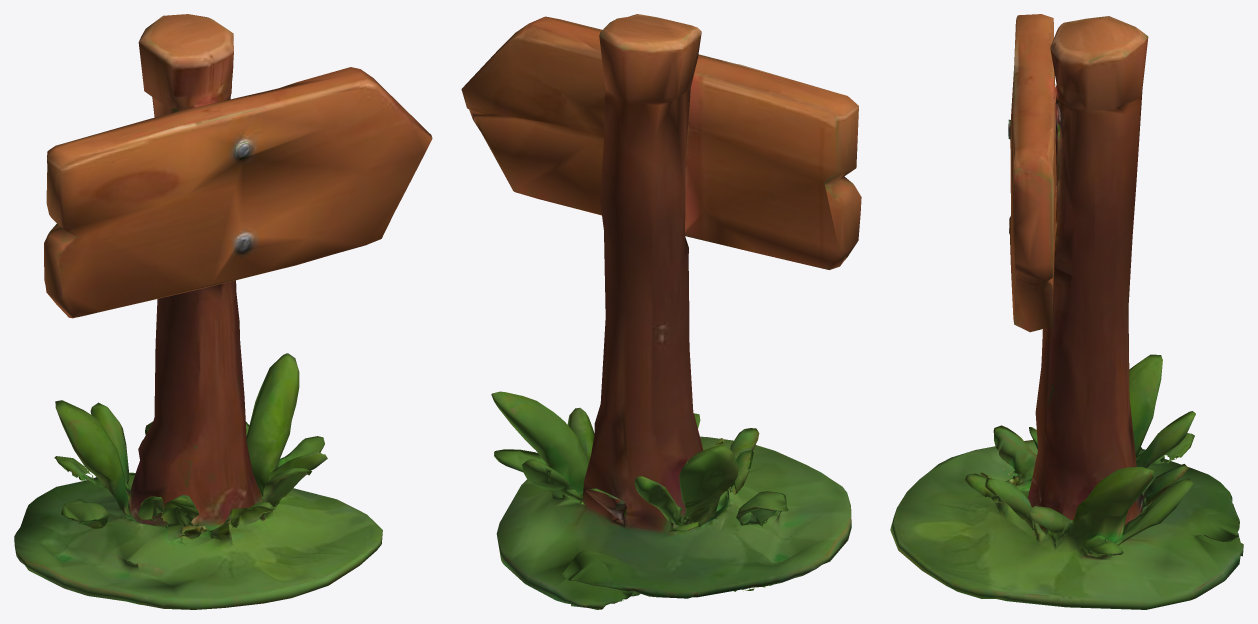
The model's file is signpost.glb.
3 views of the same model, side by side, from view 1: azimuth 30°, elevation 25°; view 2: azimuth 150°, elevation 25°; view 3: azimuth 270°, elevation 25° (orthographic).
Size of the model in its own units: 1.54 by 2 by 1.23.
Materials: 1 (1 with a texture image).
